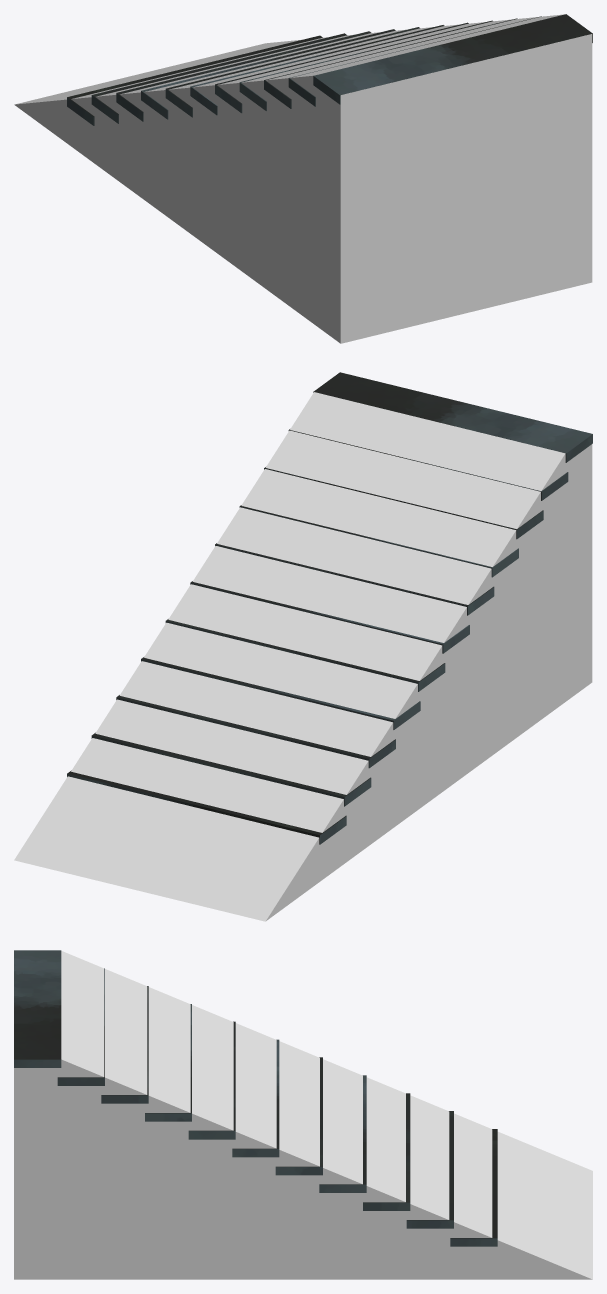
File: Ladder.fbx
The picture shows the model from 3 angles, top to bottom: view 1: azimuth 30°, elevation 25°; view 2: azimuth 150°, elevation 25°; view 3: azimuth 270°, elevation 25°; orthographic projection. The views are drawn at different scales.
Visible parts, largest first — view 1: Colision, Ladder; view 2: Colision, Ladder; view 3: Colision, Ladder.
Part boxes in pixels (x1=…): Colision: x1=14, y1=14, x2=592, y2=343; Ladder: x1=67, y1=14, x2=592, y2=125; Colision: x1=14, y1=392, x2=592, y2=921; Ladder: x1=67, y1=372, x2=592, y2=844; Colision: x1=14, y1=951, x2=592, y2=1279; Ladder: x1=14, y1=950, x2=497, y2=1246.
Bounding box in the file's own units: 108 × 101 × 242.
